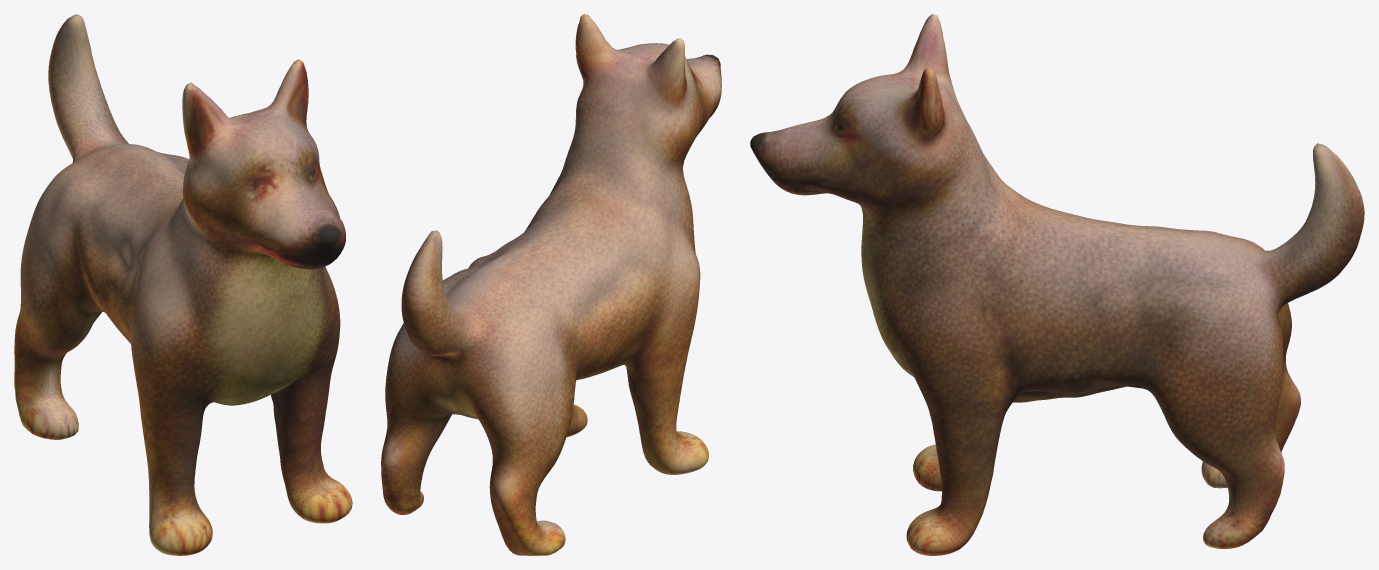
The model's file is wolf.glb.
3 views of the same model, side by side, from view 1: azimuth 30°, elevation 25°; view 2: azimuth 150°, elevation 25°; view 3: azimuth 270°, elevation 25° (orthographic). The views are drawn at different scales.
Parts seen in each view (by area): view 1: Mesh1; view 2: Mesh1; view 3: Mesh1.
Boxes of the visible parts, left/top/right/bottom form: Mesh1: left=14, top=14, right=352, bottom=555; Mesh1: left=381, top=14, right=721, bottom=555; Mesh1: left=750, top=14, right=1364, bottom=555.
Size of the model in its own units: 0.4632 by 1.02 by 1.2.
Materials: 1 (1 with a texture image).
